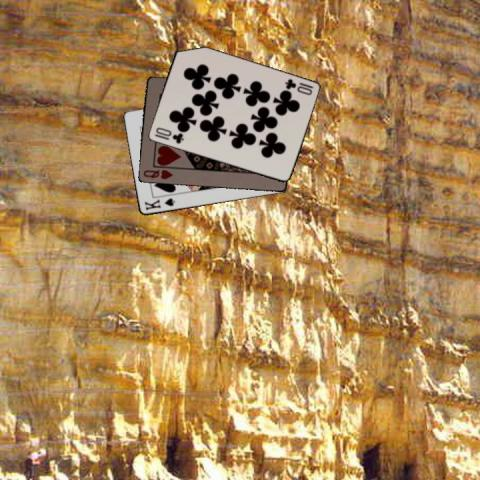10c: (151, 125, 185, 145), (282, 76, 314, 97)
Ks: (141, 195, 177, 212)
Qh: (140, 166, 174, 180)
